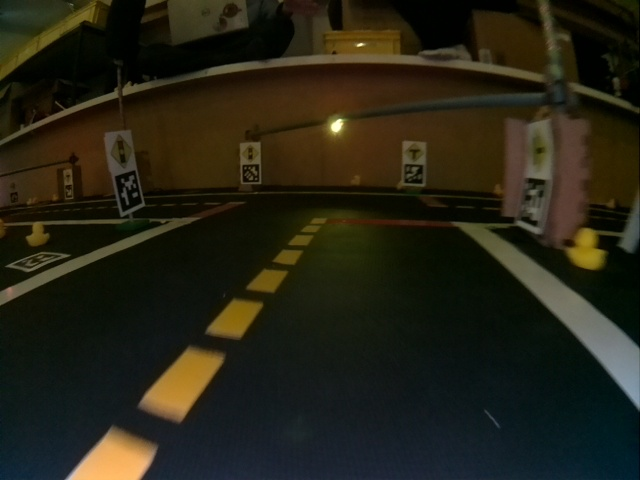Duckie: (567, 228, 605, 268), (26, 223, 50, 247), (351, 175, 361, 185)
Intersection sign: (403, 142, 426, 163)
QR code: (516, 176, 550, 228), (8, 251, 66, 269), (116, 170, 140, 212), (403, 163, 425, 185), (241, 164, 258, 183)
Signal sign: (109, 133, 133, 166), (241, 143, 260, 161)
Traffic light: (329, 117, 343, 134)
